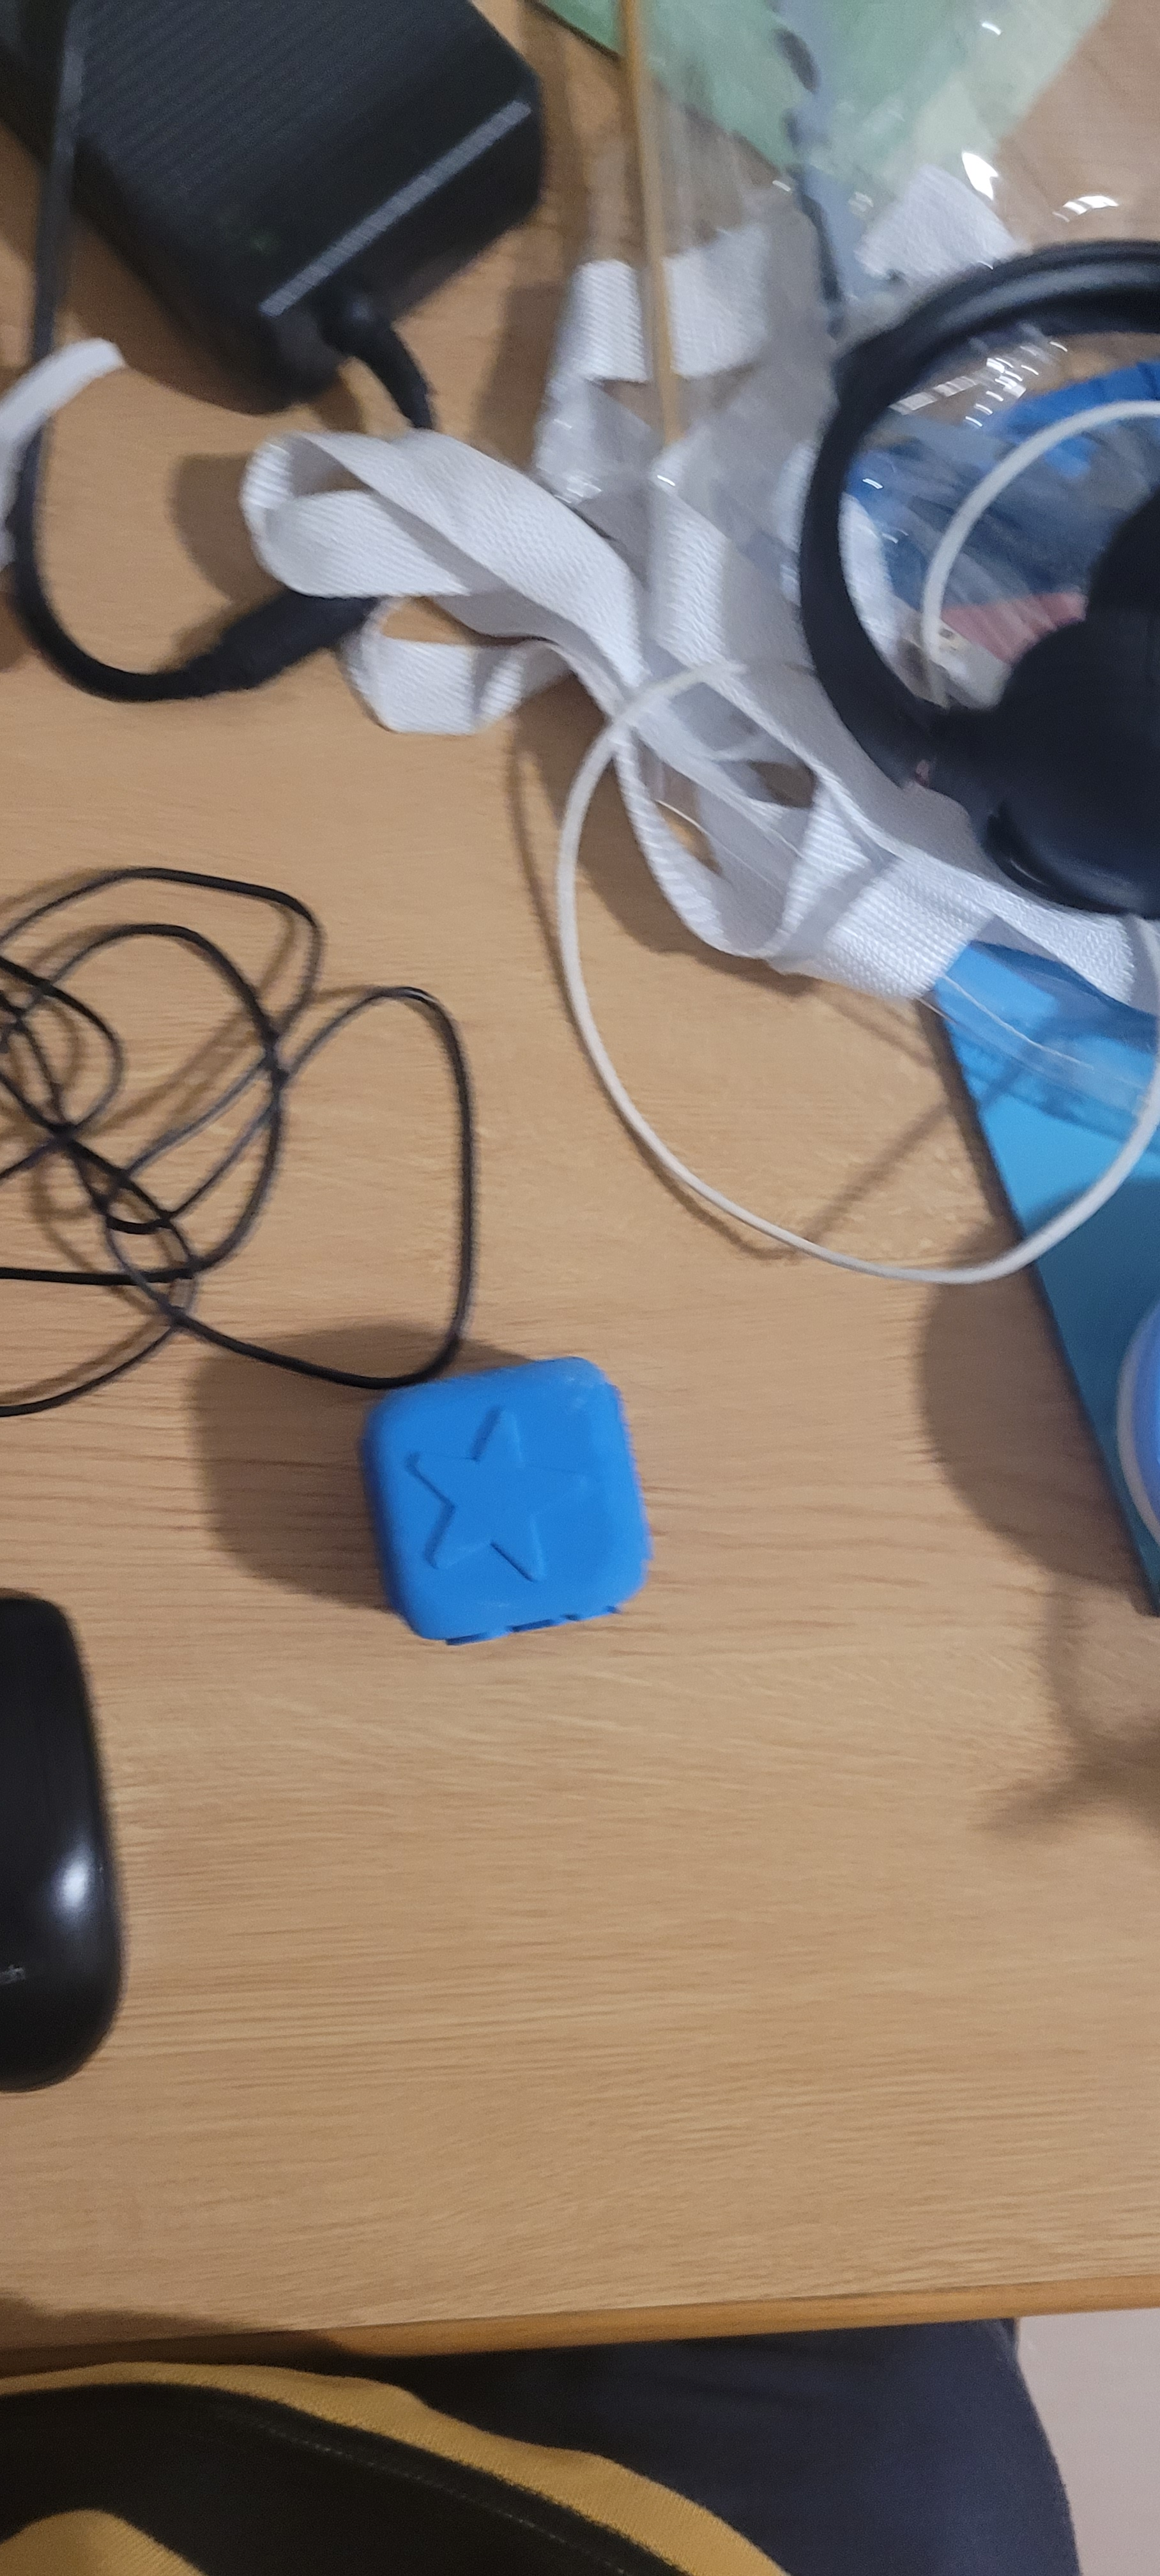Star: (384, 1424, 619, 1613)
